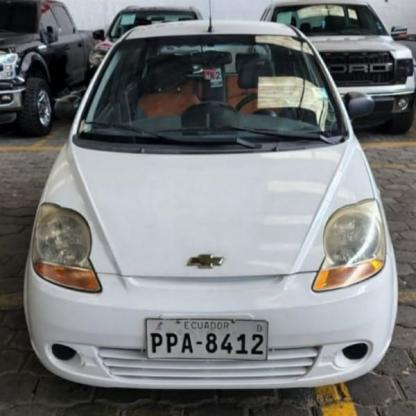Placa: (144, 318, 268, 363)
